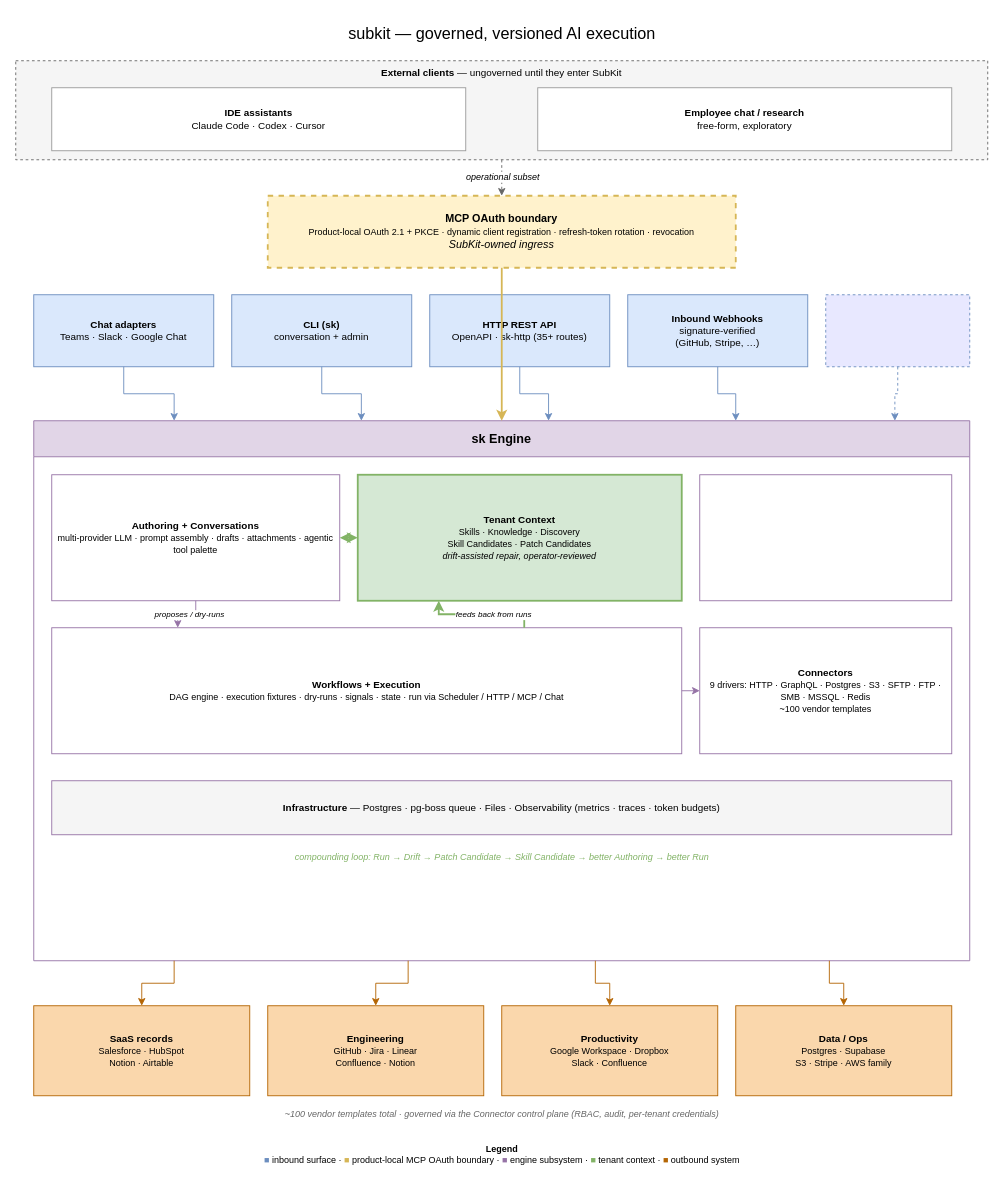
Some shapes in this 1004 by 1192 pixel diagram are drawn without their labels. Here are the shapes that lost their labels. From the top down, the centre of each, then its label:
pixel 897 330: Scheduler (cron) internal trigger
pixel 825 537: Governance RBAC · Identity · Credentials API keys · Portal tokens · Audit
